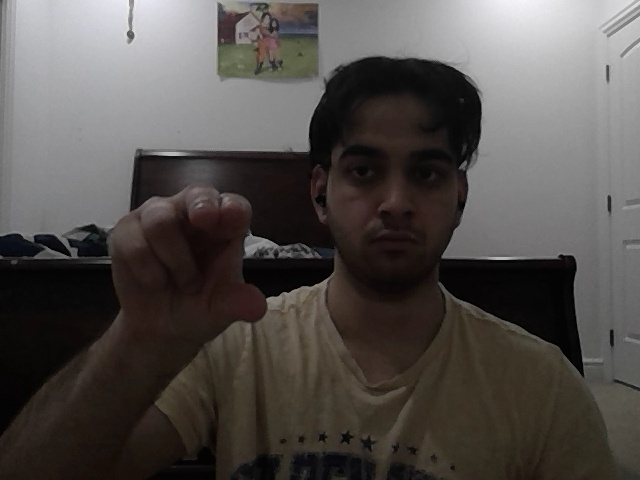No: (107, 181, 273, 340)
